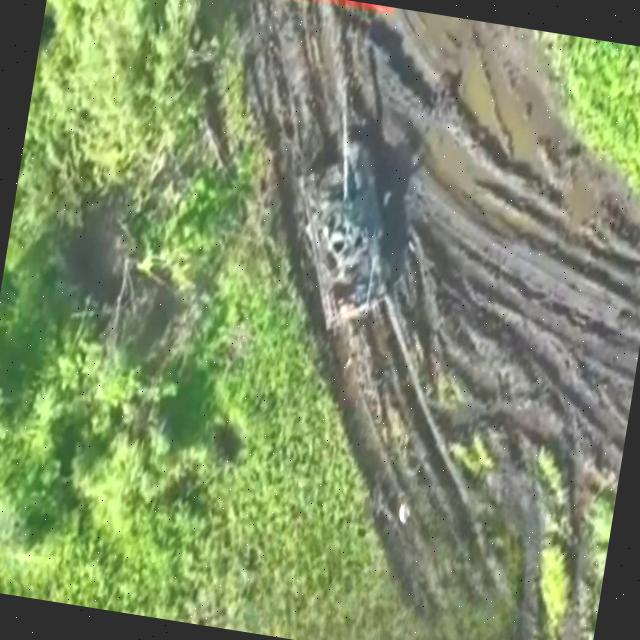MBT: (275, 77, 422, 356)
